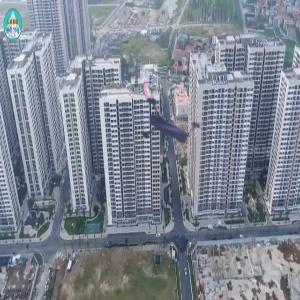drone: (133, 85, 210, 162)
